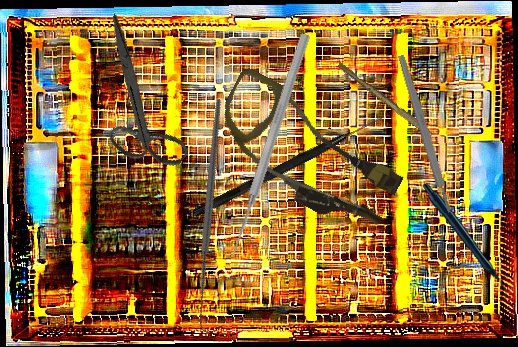Cannula: (199, 65, 416, 241)
Handpiece: (422, 182, 508, 300)
Hook Surgical: (104, 98, 323, 335), (192, 111, 384, 220)
Iris Scissors: (49, 14, 226, 186)
Pusher: (225, 31, 313, 260)
Scalpel Handle: (396, 54, 454, 214), (335, 61, 436, 138)
